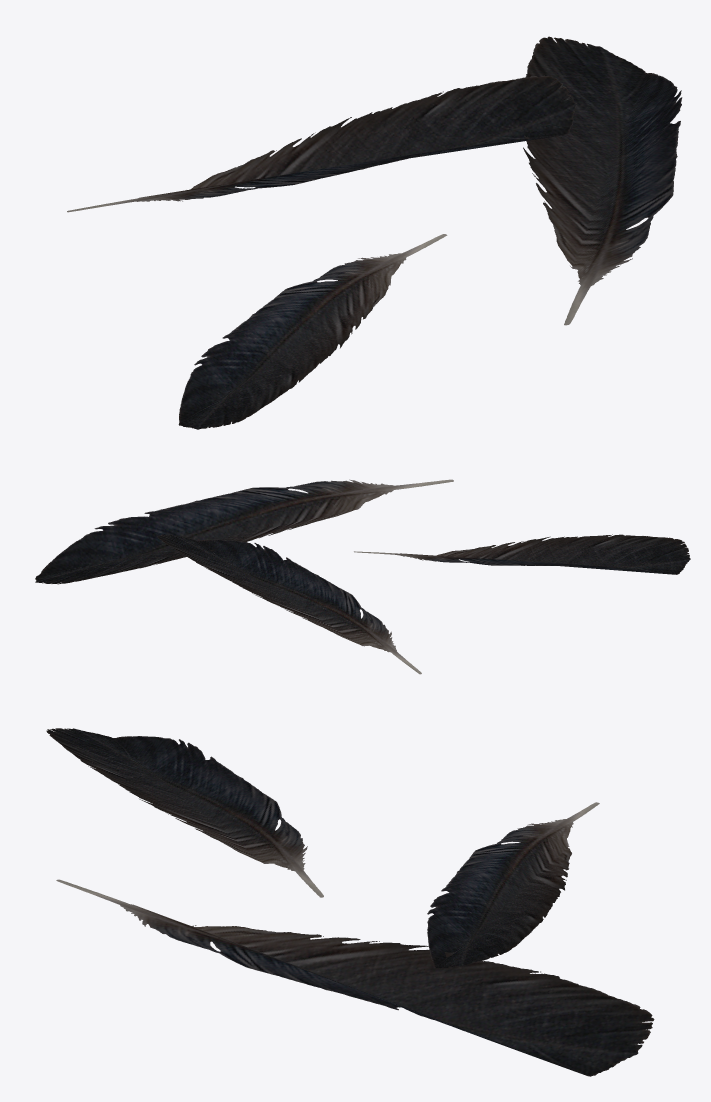
The model's file is SM_FeathersA.FBX.
3 renders of one model, top to bottom at view 1: azimuth 30°, elevation 25°; view 2: azimuth 150°, elevation 25°; view 3: azimuth 270°, elevation 25°, orthographic. The views are drawn at different scales.
Visible parts, largest first — view 1: SM_FeathersA; view 2: SM_FeathersA; view 3: SM_FeathersA.
Part boxes in pixels (x1,y1,x2,y2): SM_FeathersA: (67, 36, 682, 429); SM_FeathersA: (35, 479, 690, 674); SM_FeathersA: (46, 728, 654, 1076).
Bounding box in the file's own units: 13.12 × 1.36 × 10.47.
